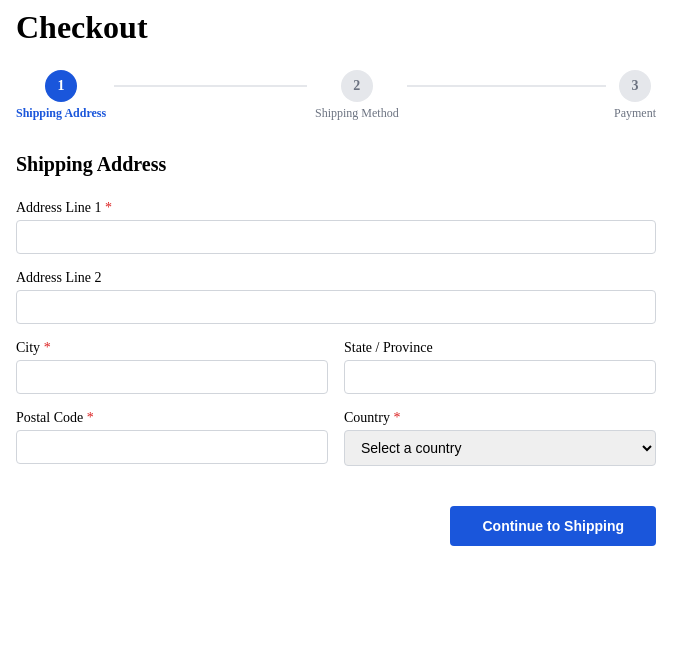
Test case: TS-001-020 › checkout form shows validation errors for empty required fields
This screenshot has width=674, height=645.
Expected: the field labelled "Address Line 1 *" is shown, x1=16 y1=220 x2=656 y2=254
# Attempt to proceed without filling required fields
Click the button "Continue to Shipping".
click(553, 526)  # box x1=450 y1=506 x2=656 y2=546
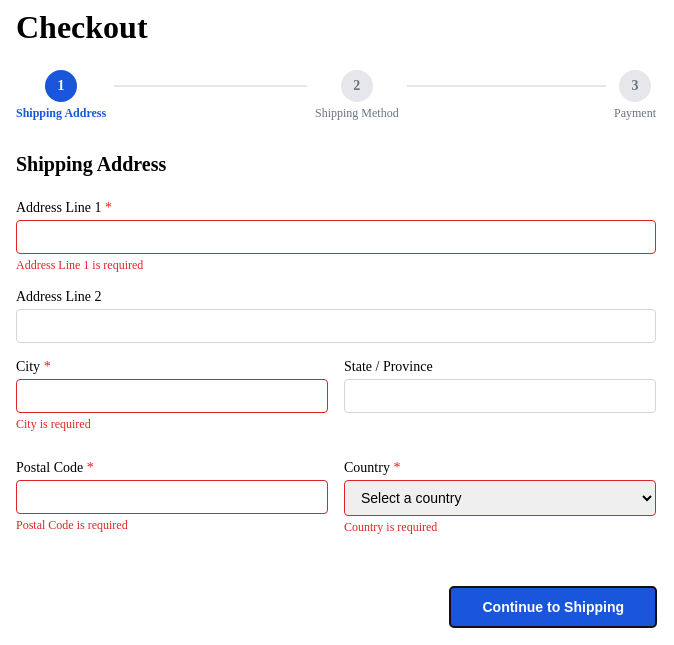
Now the text "Address Line 1 is required" is shown, box x1=16 y1=258 x2=143 y2=272
Now the text "City is required" is shown, box x1=16 y1=417 x2=91 y2=431
Now the text "Postal Code is required" is shown, box x1=16 y1=518 x2=128 y2=532
